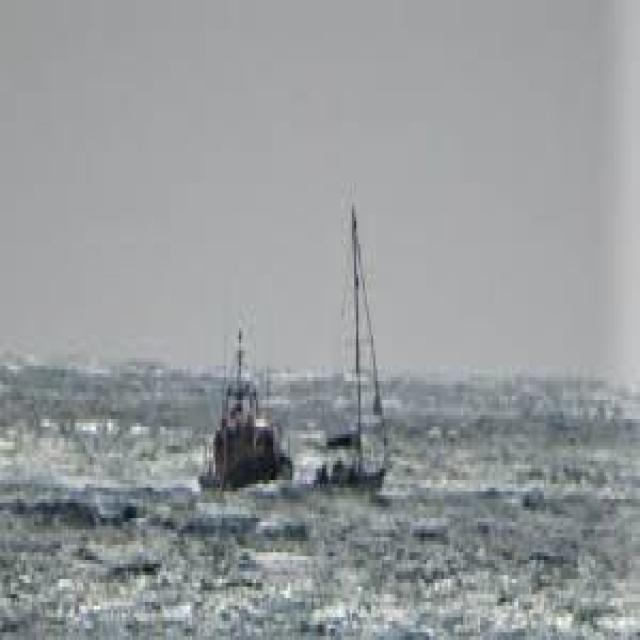fishing boat: (303, 206, 390, 500), (191, 324, 293, 511)
